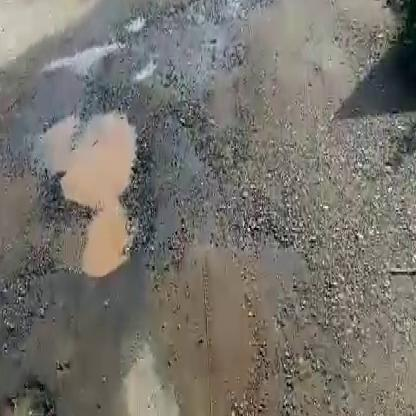pothole: (38, 100, 139, 279), (0, 377, 58, 416)
